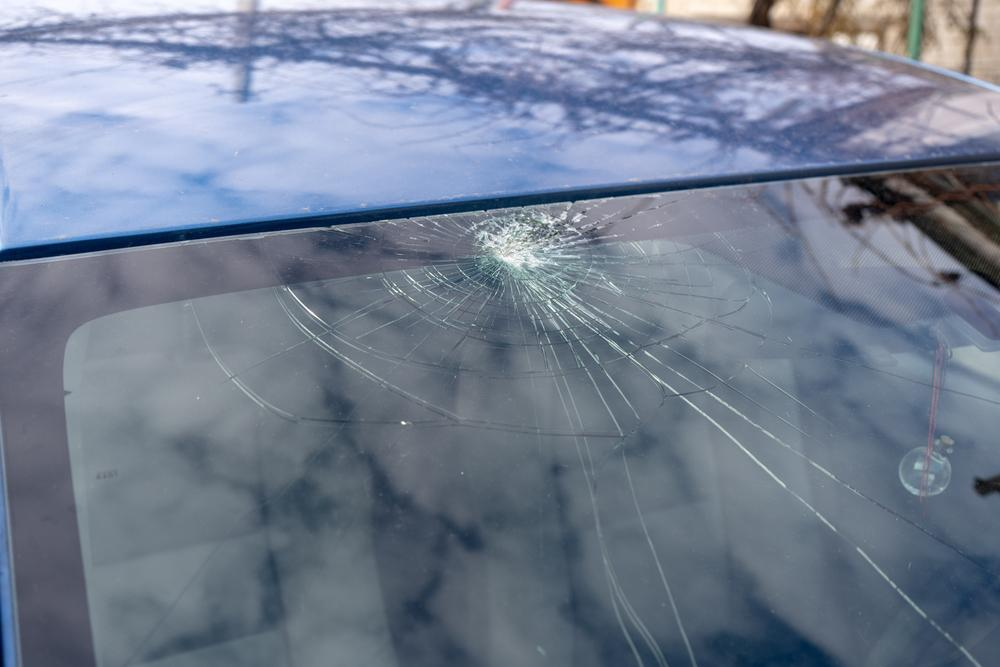glass shatter: (0, 162, 1000, 667)
